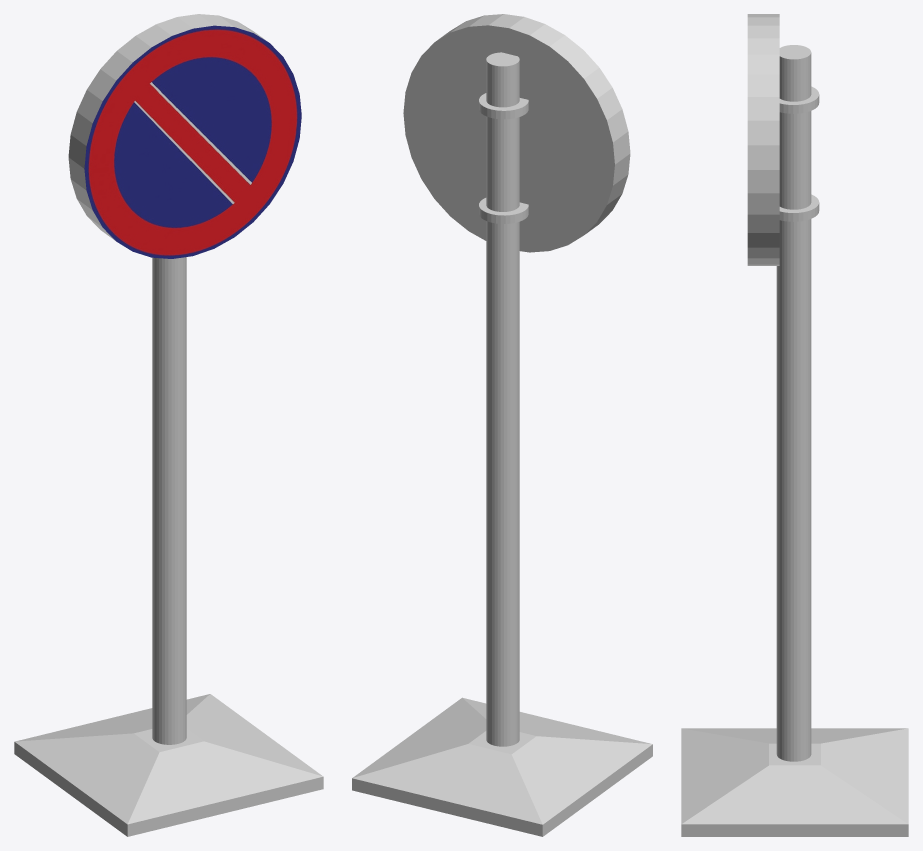
The model's file is park_edilmez.dae.
The picture shows the model from 3 angles, left to right: view 1: azimuth 30°, elevation 25°; view 2: azimuth 150°, elevation 25°; view 3: azimuth 270°, elevation 25°; orthographic projection. The views are drawn at different scales.
Visible parts, largest first — view 1: Cylinder.001; view 2: Cylinder.001; view 3: Cylinder.001.
Boxes of the visible parts, x1,y1,x2,y2 form: Cylinder.001: (14, 14, 323, 836); Cylinder.001: (352, 14, 652, 836); Cylinder.001: (681, 14, 908, 836).
Bounding box in the file's own units: 0.83 × 0.7483 × 2.77.
2 materials, 1 textured.
